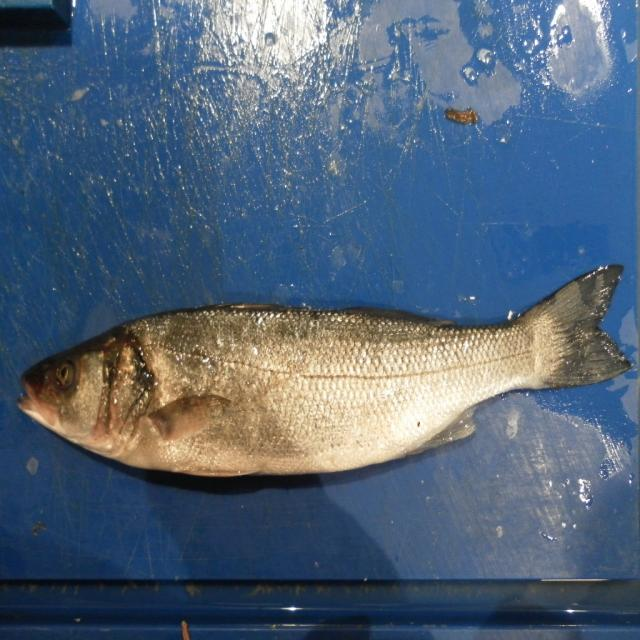Sea-Bass-levrek-: (18, 264, 633, 481)
